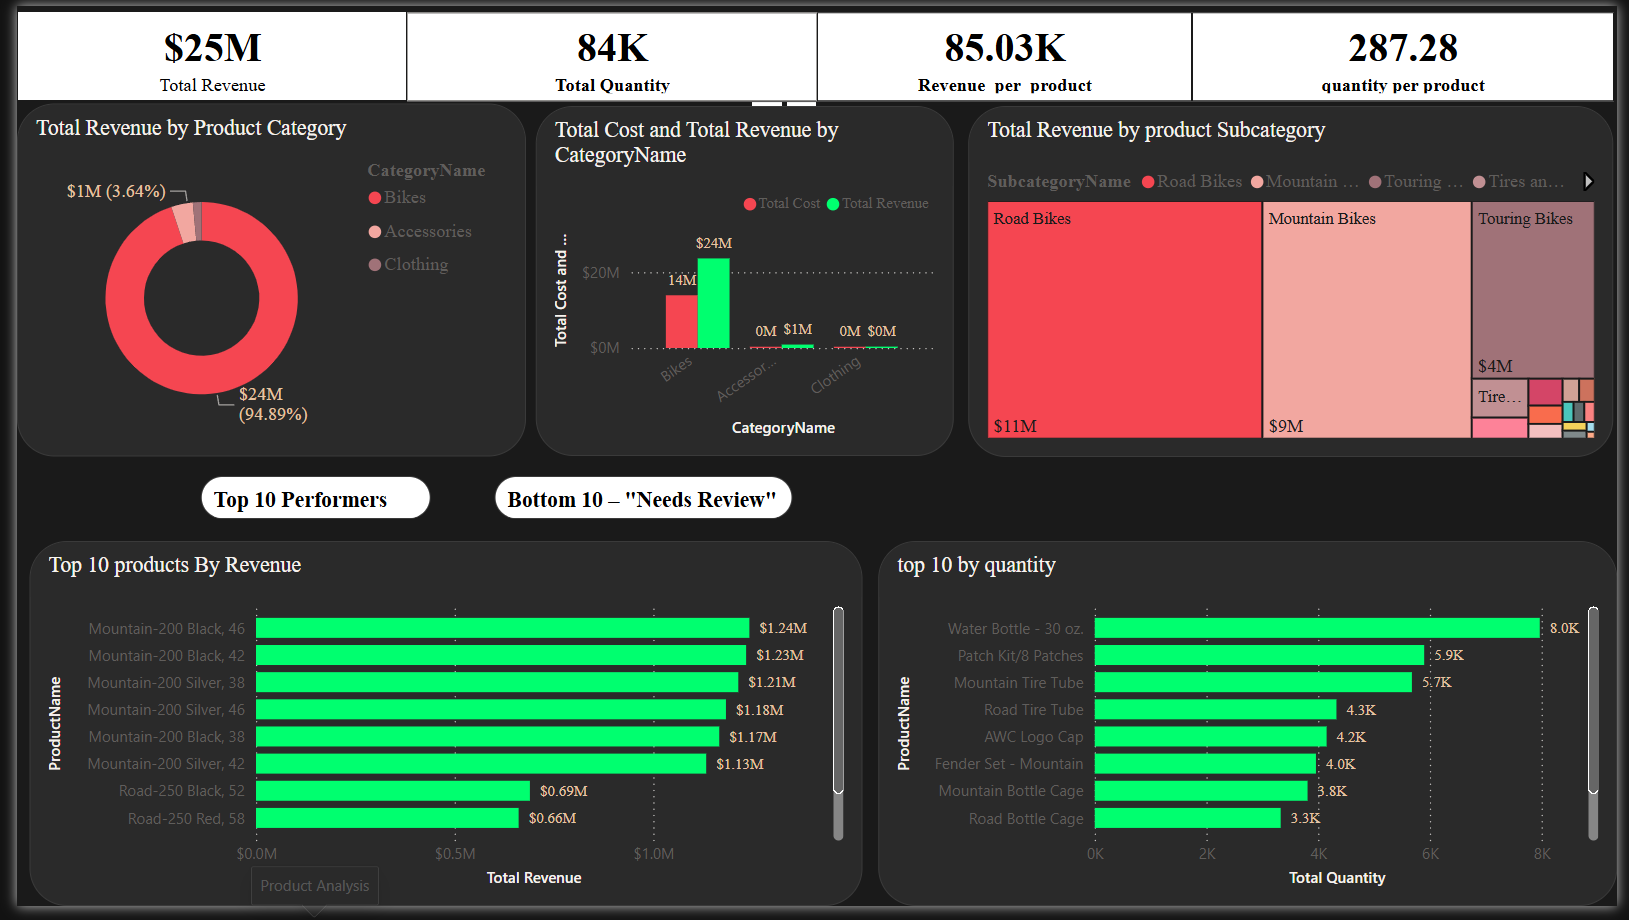

Layout of this report page (visuals, bound fields, positions):
{"tool":"powerbi","page":{"name":" Product Analysis","canvas":[1280,720],"ordinal":1},"visuals":[{"type":"donutChart","title":"Total Revenue by Product Category","fields":{"Category":["Product.CategoryName"],"Y":["sales.Total Revenue"]},"box":[0,78.2,407.1,281.4],"z":0},{"type":"clusteredBarChart","title":"Top 10 products By Revenue","fields":{"Category":["Product.ProductName"],"Y":["sales.Total Revenue"]},"box":[9.6,427.9,666.4,292.4],"z":1000},{"type":"clusteredBarChart","title":"top 10  by quantity","fields":{"Category":["Product.ProductName"],"Y":["sales.Total Quantity"]},"box":[689.1,427.9,590.9,292.4],"z":2000},{"type":"treemap","title":"Total Revenue by product Subcategory","fields":{"Values":["sales.Total Revenue"],"Group":["Product.SubcategoryName"]},"box":[761.3,80.1,515.6,280.5],"z":3000},{"type":"card","fields":{"Values":["sales.Total Revenue"]},"box":[0,3.6,311.8,72.7],"z":4000},{"type":"card","fields":{"Values":["sales.Total_Order_Quantity"]},"box":[311.8,4.5,328.2,71.8],"z":5000},{"type":"card","fields":{"Values":["Product.Revenue_per_product"]},"box":[640,4.5,300,71.8],"z":6000},{"type":"card","fields":{"Values":["Product.quantity per product"]},"box":[940,4.5,337.3,71.8],"z":7000},{"type":"clusteredColumnChart","fields":{"Category":["Product.CategoryName"],"Y":["sales.Total Cost","sales.Total Revenue"]},"box":[414.5,80,334.4,280.4],"z":8000},{"type":"actionButton","title":"Top 10 Performers","box":[146.6,376.5,184.5,33.7],"z":11000},{"type":"actionButton","title":"Bottom 10 – \"Needs Review\"","box":[381.7,376.5,238.3,33.7],"z":12000}]}

Visuals, with their boxes in screenshot pixels (x1, y1, x2, y2), scaled from the page's 1280x720 canvas onto the 1629x920 screenshot:
"Total Revenue by Product Category" donutChart: bbox(0, 100, 518, 459)
"Top 10 products By Revenue" clusteredBarChart: bbox(12, 547, 860, 919)
"top 10  by quantity" clusteredBarChart: bbox(877, 547, 1628, 919)
"Total Revenue by product Subcategory" treemap: bbox(969, 102, 1625, 461)
card - sales.Total Revenue: bbox(0, 5, 397, 97)
card - sales.Total_Order_Quantity: bbox(397, 6, 814, 97)
card - Product.Revenue_per_product: bbox(814, 6, 1196, 97)
card - Product.quantity per product: bbox(1196, 6, 1626, 97)
clusteredColumnChart - Product.CategoryName x sales.Total Cost: bbox(528, 102, 953, 461)
"Top 10 Performers" actionButton: bbox(187, 481, 421, 524)
"Bottom 10 – "Needs Review"" actionButton: bbox(486, 481, 789, 524)
